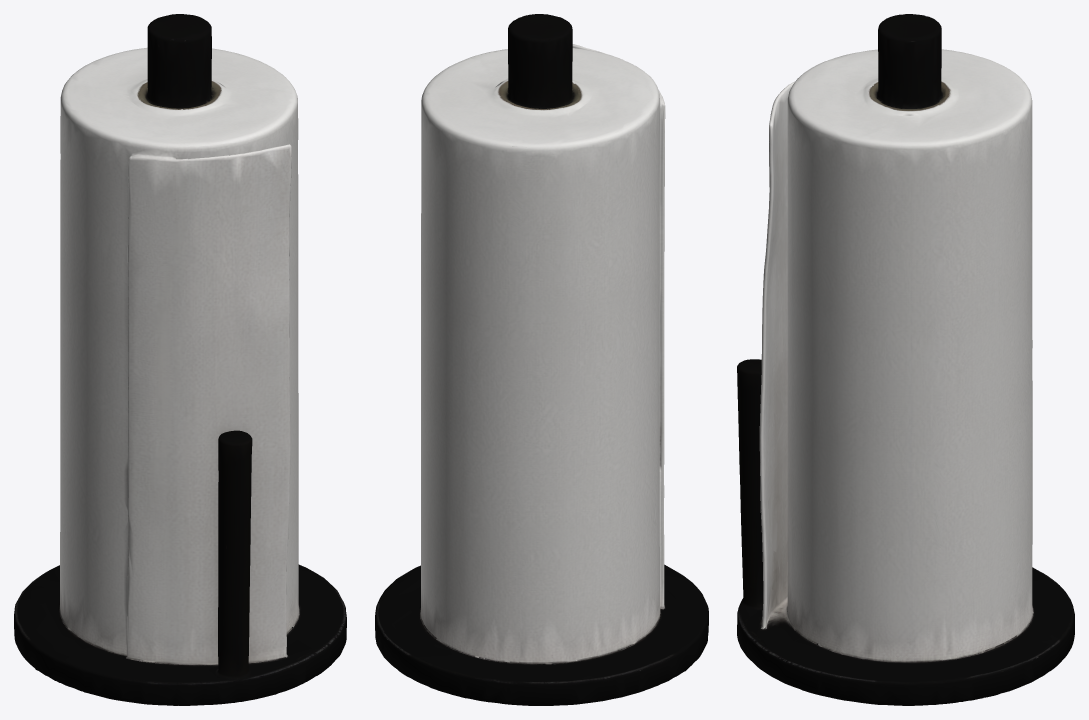
File: paper_towel_lod.glb
3 views of the same model, side by side, from view 1: azimuth 30°, elevation 25°; view 2: azimuth 150°, elevation 25°; view 3: azimuth 270°, elevation 25° (orthographic).
Visible parts, largest first — view 1: world; view 2: world; view 3: world.
Boxes of the visible parts, box(x1,y1,x2,y2) form: world: box(14, 14, 346, 705); world: box(375, 14, 708, 705); world: box(737, 14, 1074, 705).
Size of the model in its own units: 0.497 by 1 by 0.5022.
Materials: 1 (1 with a texture image).
